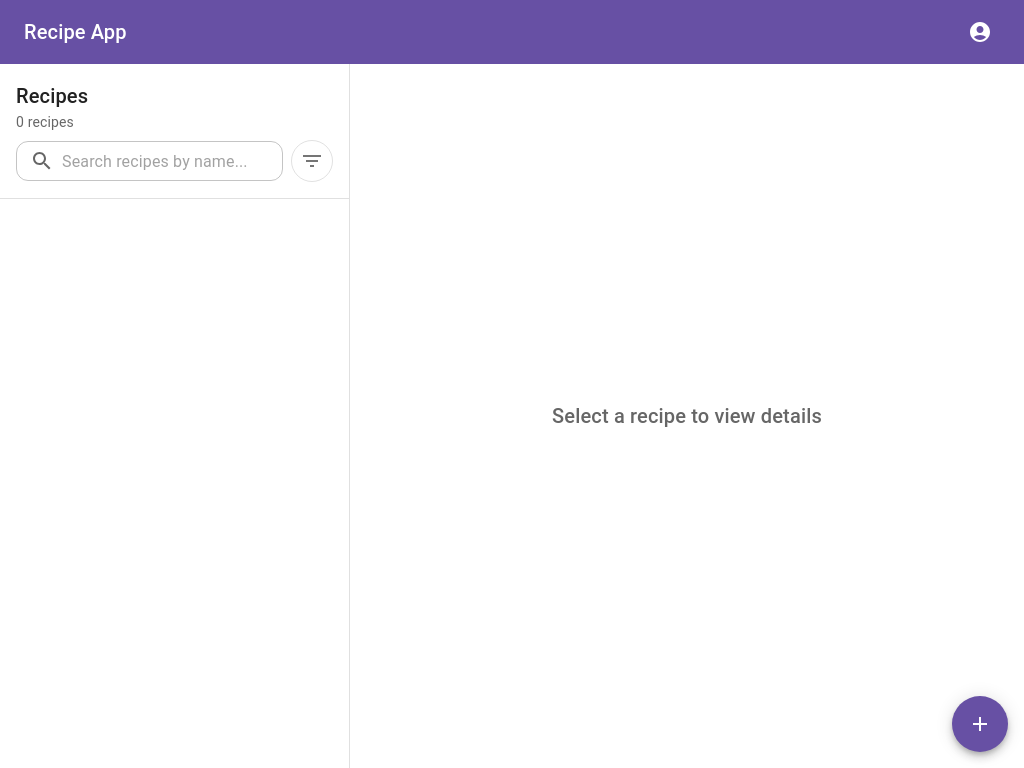
App › Add Recipe Modal › closes modal when cancel is clicked
The image size is (1024, 768).
Note: Open modal
What coordinates should you click on to do the following:
click the button named "add"
I would click on:
 (980, 724)
Its box is x1=952 y1=696 x2=1008 y2=752.
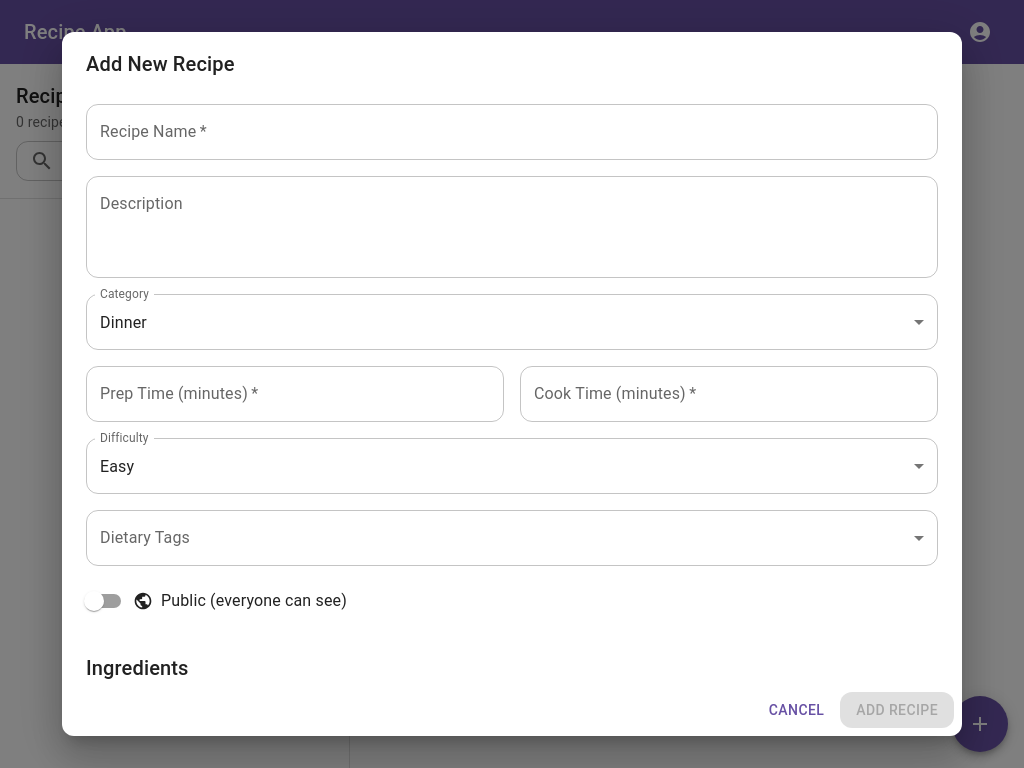
Expected: the heading "Add New Recipe" is shown, x1=86 y1=52 x2=235 y2=76
Note: Close modal
What coordinates should you click on to do the following:
click the button "Cancel"
I would click on:
 (797, 710)
Its box is x1=761 y1=692 x2=832 y2=728.
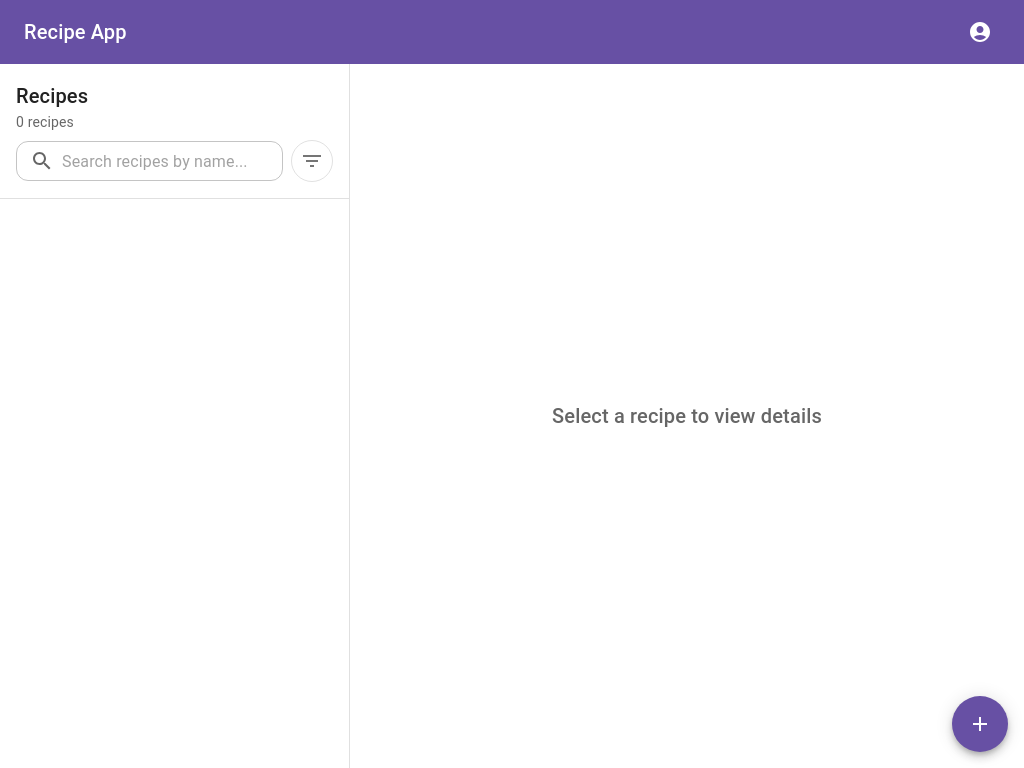
Expected: the heading "Add New Recipe" is gone
